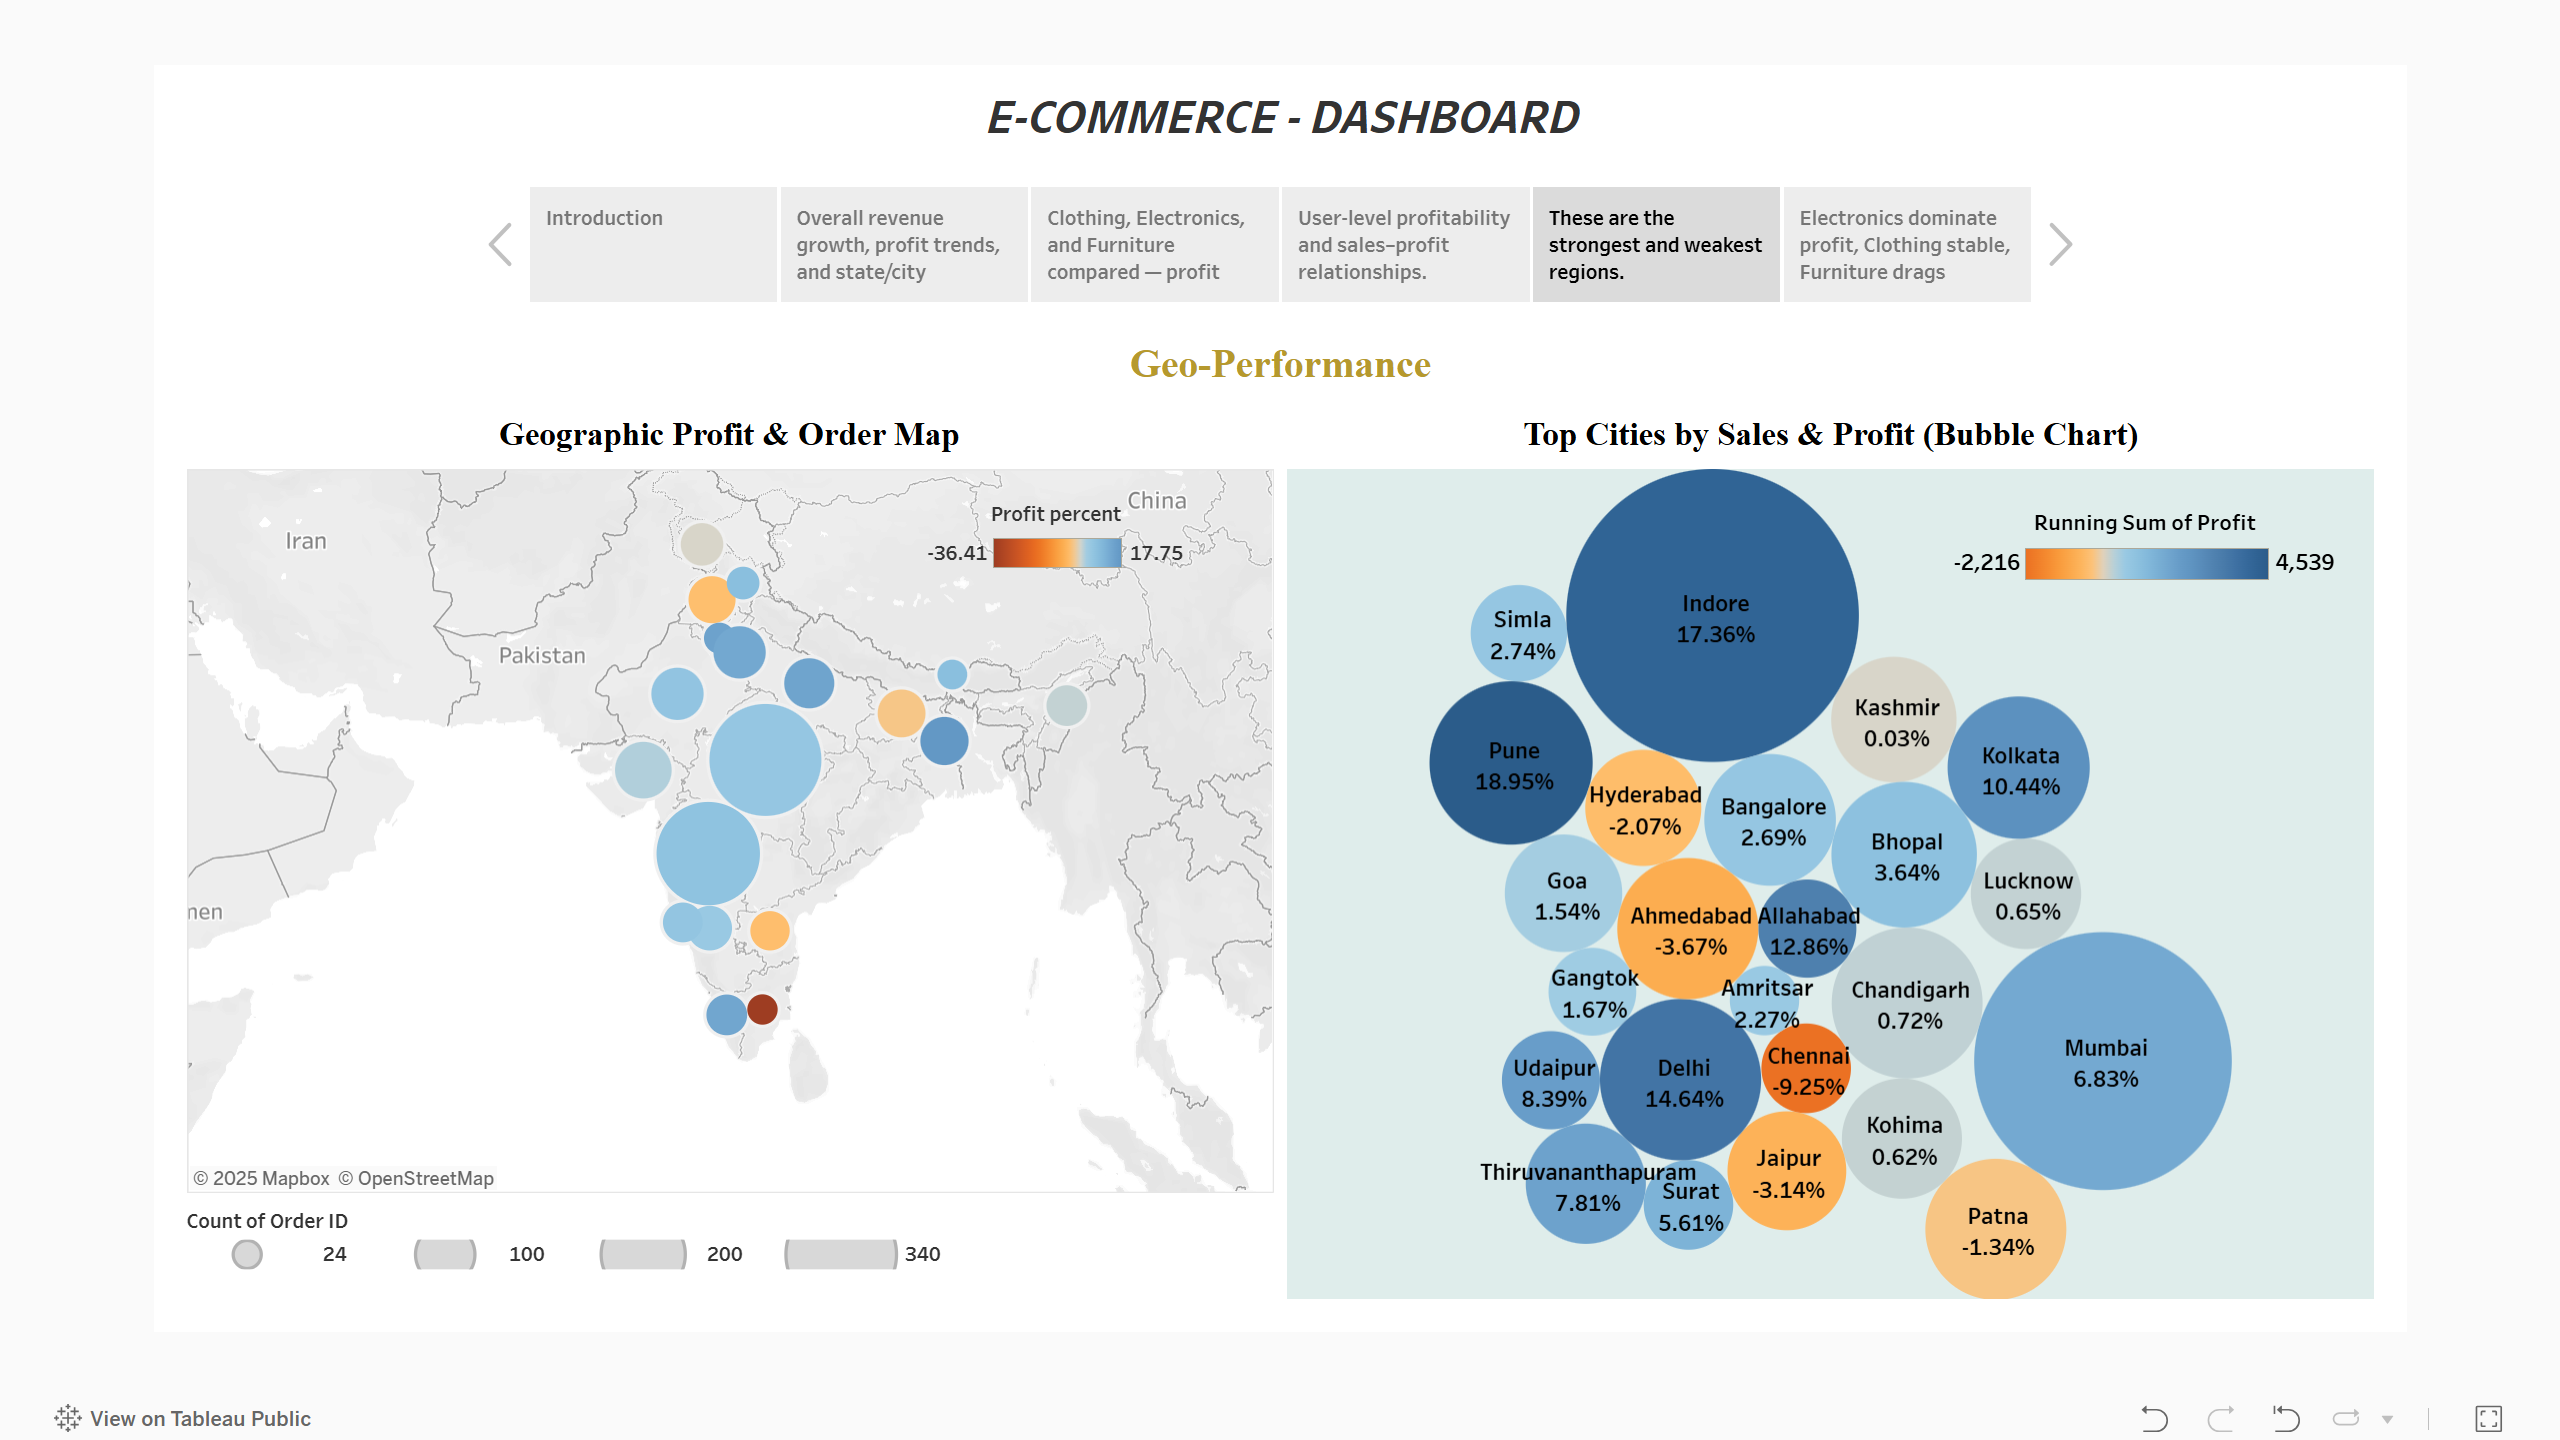

Layout of this report page (visuals, bound fields, positions):
{"tool":"tableau","page":{"name":"Geo-Performance","canvas":[1000,1000],"units":"permille","ordinal":2},"visuals":[{"type":"title","box":[6,14.3,988,67.9]},{"type":"worksheet","title":"map_order_vs_profit","mark":"Automatic","box":[6,82.2,494,798.2]},{"type":"worksheet","title":"bubble chart","mark":"Circle","box":[500,82.2,494,903.6]},{"type":"legend","title":"map_order_vs_profit","param":"[federated.1dc9i420t5on941e81dtr1lsql6r].[usr:Calculation_683421293305475072:qk]","box":[338.6,178.6,121.1,76.8]},{"type":"legend","title":"bubble chart","param":"[federated.1dc9i420t5on941e81dtr1lsql6r].[cum:sum:Profit:qk]","box":[799.1,187.5,177.6,107.1]},{"type":"legend","title":"map_order_vs_profit","param":"[federated.1dc9i420t5on941e81dtr1lsql6r].[cnt:Order ID:qk]","box":[6,880.4,494,105.4]}]}

Visuals, with their boxes on the dashboard's canvas, which has no fixed pixel size, in thousandths of its width and height (x1, y1, x2, y2). These are canvas units, not pixel positions in the 2560x1440 screenshot, which may show the page scaled, cropped or inside an application window:
title: Rect(6, 14, 994, 82)
"map_order_vs_profit" worksheet: Rect(6, 82, 500, 880)
"bubble chart" worksheet (Circle marks): Rect(500, 82, 994, 986)
"map_order_vs_profit" legend: Rect(339, 179, 460, 255)
"bubble chart" legend: Rect(799, 188, 977, 295)
"map_order_vs_profit" legend: Rect(6, 880, 500, 986)
